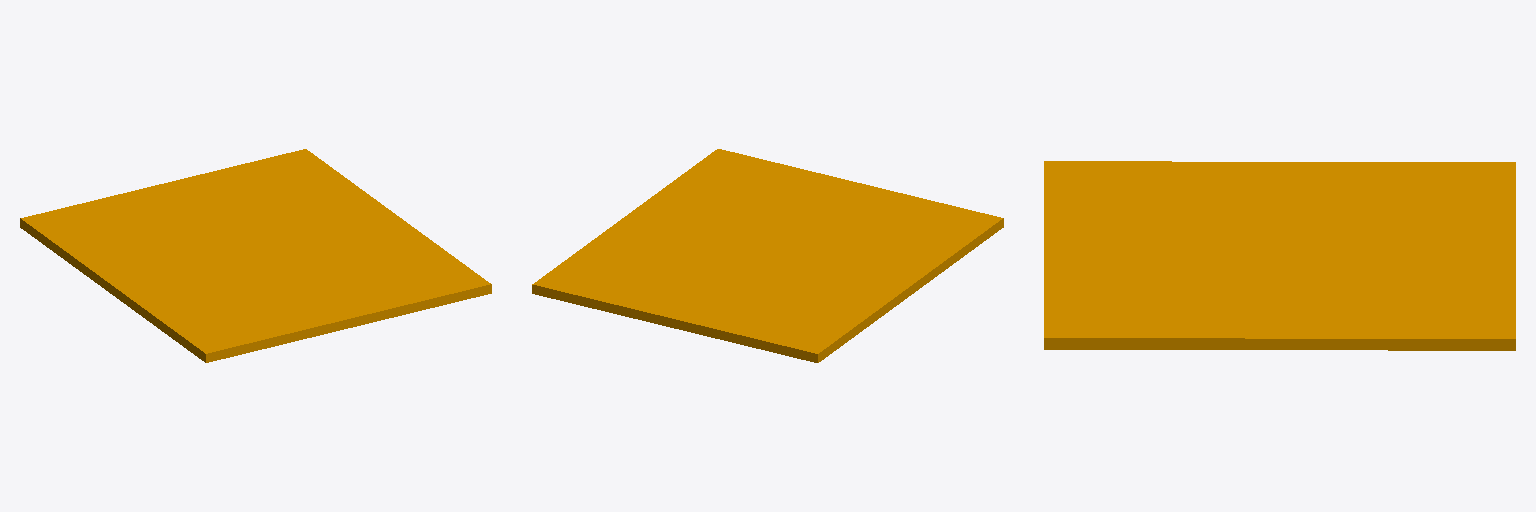
URDF robot description (chessboard.urdf):
<?xml version="0.0" ?>
<robot name="chessboard.urdf">
  <link name="chessboard">
    <visual>
      <origin rpy="1.57 0 0" xyz="0 0 0"/>
      <geometry>
        <mesh filename="chessboard.obj"/>
      </geometry>
    </visual>
    
    <collision>
      <origin rpy="1.57 0 0" xyz="0 0 0.0"/>
      <geometry>
  	    <mesh filename="chessboard.obj"/>
      </geometry>
    </collision>
  </link>
</robot>

--- Facts derived from the render (not from the file) ---
The picture shows the robot from 3 angles, left to right: view 1: azimuth 30°, elevation 25°; view 2: azimuth 150°, elevation 25°; view 3: azimuth 270°, elevation 25°; orthographic projection.
Model chessboard.urdf with 1 links and 0 joints (none), rooted at chessboard, posed every joint at zero.
Visible links, largest first — view 1: chessboard; view 2: chessboard; view 3: chessboard.
Link boxes in pixels (bbox=[...]): chessboard: bbox=[20, 149, 491, 362]; chessboard: bbox=[532, 149, 1003, 362]; chessboard: bbox=[1044, 161, 1515, 350].
Size in the robot's own frame: 1.6 by 1.8 by 0.0516 metres.
1 mesh visuals loaded from 1 distinct referenced files (1 OBJ).